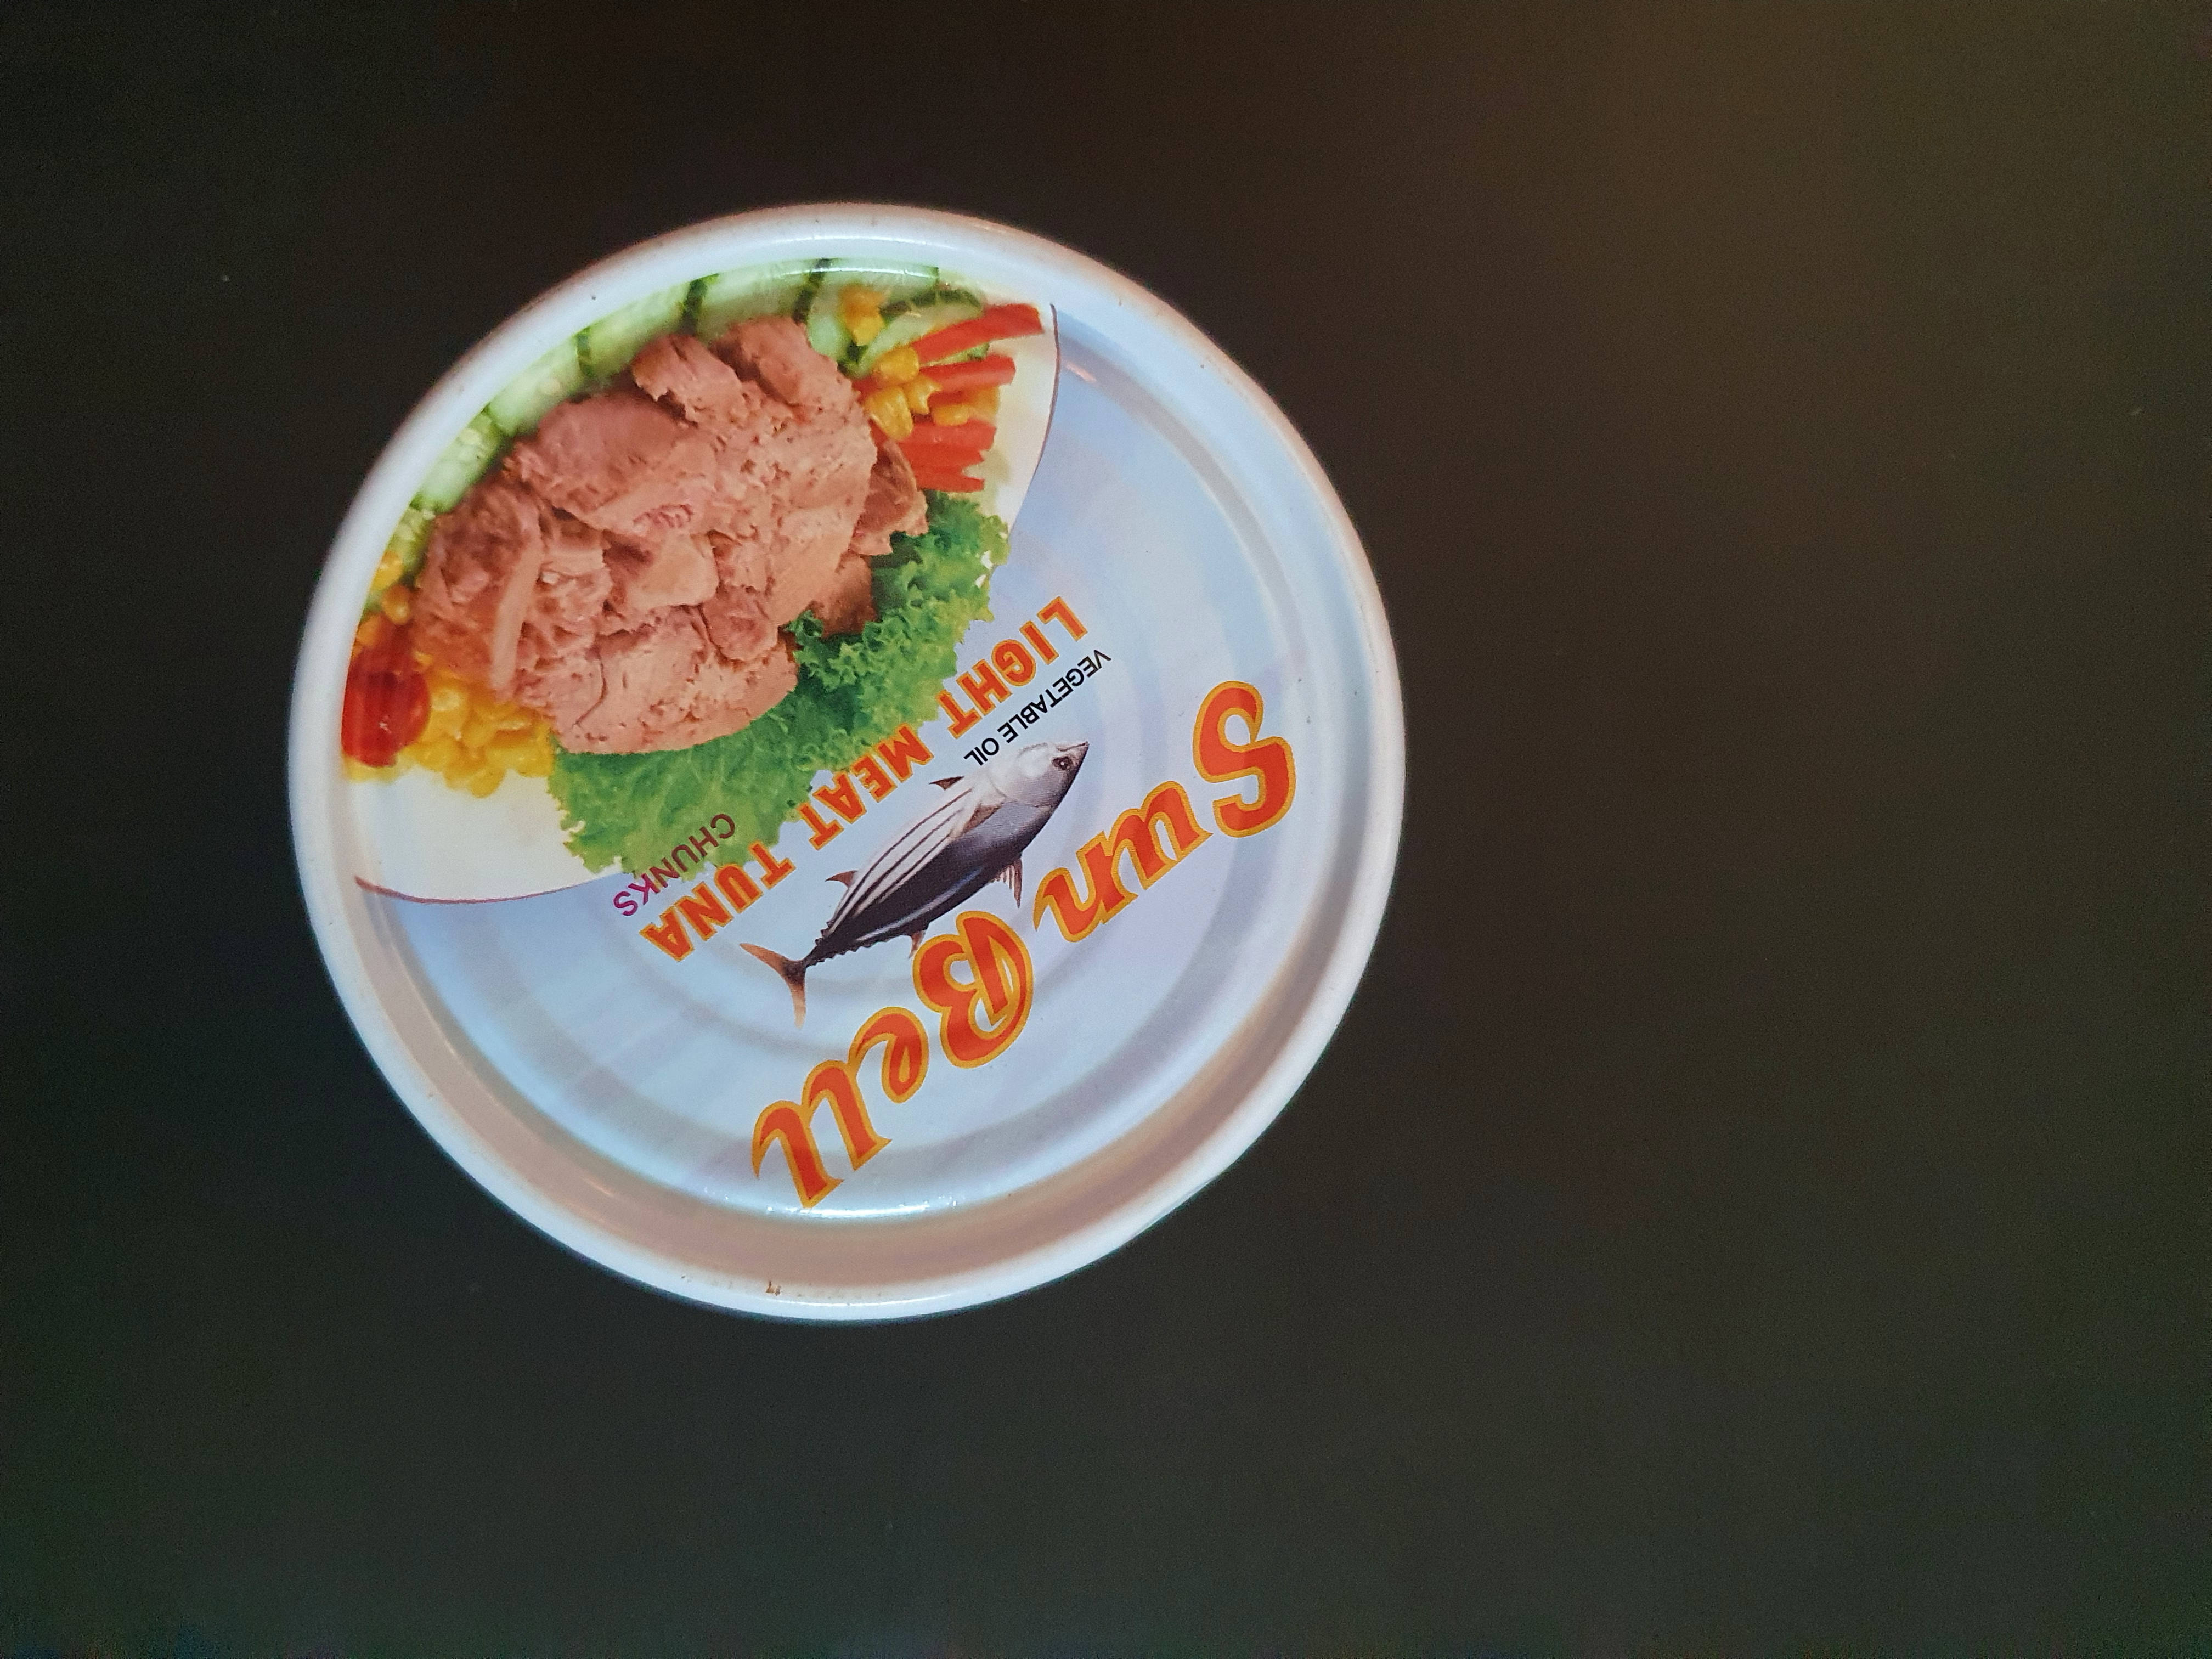metal: (186, 143, 1498, 1410)
